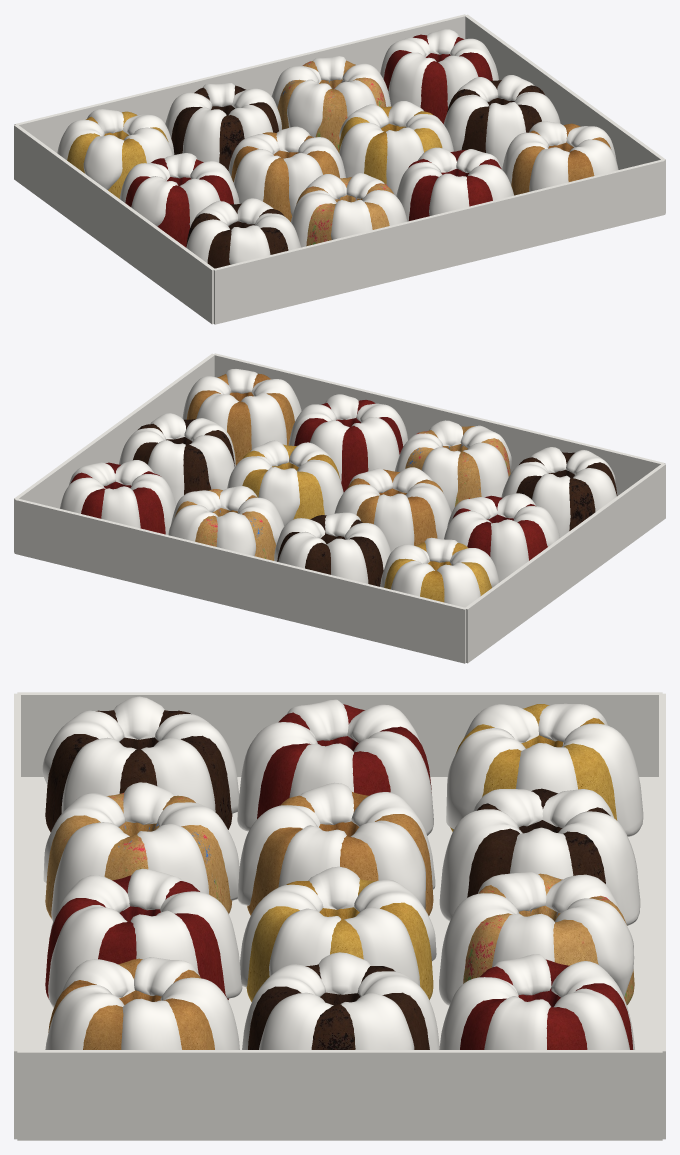
Rendered from bundtinis_assorted.glb.
3 views of the same model, one above another, from view 1: azimuth 30°, elevation 25°; view 2: azimuth 150°, elevation 25°; view 3: azimuth 270°, elevation 25° (orthographic). The views are drawn at different scales.
Visible parts, largest first — view 1: box_w2, box_w4, box_w1, box_w3, cake.012, cake.009, cake.002, cake.005, cake.006, cake.010, cake.008, cake.007 (+64 smaller); view 2: box_w1, box_w4, box_w2, box_w3, cake.010, cake.007, cake.008, cake.006, cake.004, cake.011, cake.012, cake.001 (+64 smaller); view 3: box_w3, box_w4, box_bottom, cake.008, cake.004, cake.001, cake.005, cake.007, cake.011, cake.002, cake.012, cake.009 (+65 smaller).
Part boxes in pixels (x1,y1,x2,y2): box_w2: [213, 160, 665, 324]; box_w4: [14, 124, 214, 324]; box_w1: [14, 14, 466, 152]; box_w3: [464, 14, 665, 213]; cake.012: [383, 34, 492, 123]; cake.009: [277, 60, 386, 151]; cake.002: [125, 158, 233, 247]; cake.005: [231, 132, 339, 221]; cake.006: [171, 85, 278, 170]; cake.010: [511, 123, 611, 195]; cake.008: [338, 106, 442, 184]; cake.007: [408, 150, 501, 220]; box_w1: [14, 499, 466, 663]; box_w4: [465, 464, 665, 663]; box_w2: [213, 353, 665, 495]; box_w3: [14, 353, 214, 552]; cake.010: [186, 373, 294, 465]; cake.007: [294, 400, 403, 492]; cake.008: [242, 444, 340, 519]; cake.006: [277, 515, 383, 586]; cake.004: [405, 426, 510, 506]; cake.011: [133, 419, 234, 494]; cake.012: [70, 462, 165, 534]; cake.001: [516, 452, 617, 530]; box_w3: [17, 1050, 662, 1140]; box_w4: [17, 692, 662, 776]; box_bottom: [21, 777, 658, 1049]; cake.008: [246, 879, 433, 1001]; cake.004: [45, 793, 232, 918]; cake.001: [45, 710, 232, 832]; cake.005: [247, 792, 433, 915]; cake.007: [45, 875, 228, 999]; cake.011: [248, 964, 429, 1049]; cake.002: [257, 704, 431, 818]; cake.012: [460, 959, 633, 1049]; cake.009: [463, 873, 634, 1004].
Size of the model in its own units: 0.246 by 0.0349 by 0.188.
Materials: 7 (5 with a texture image).
